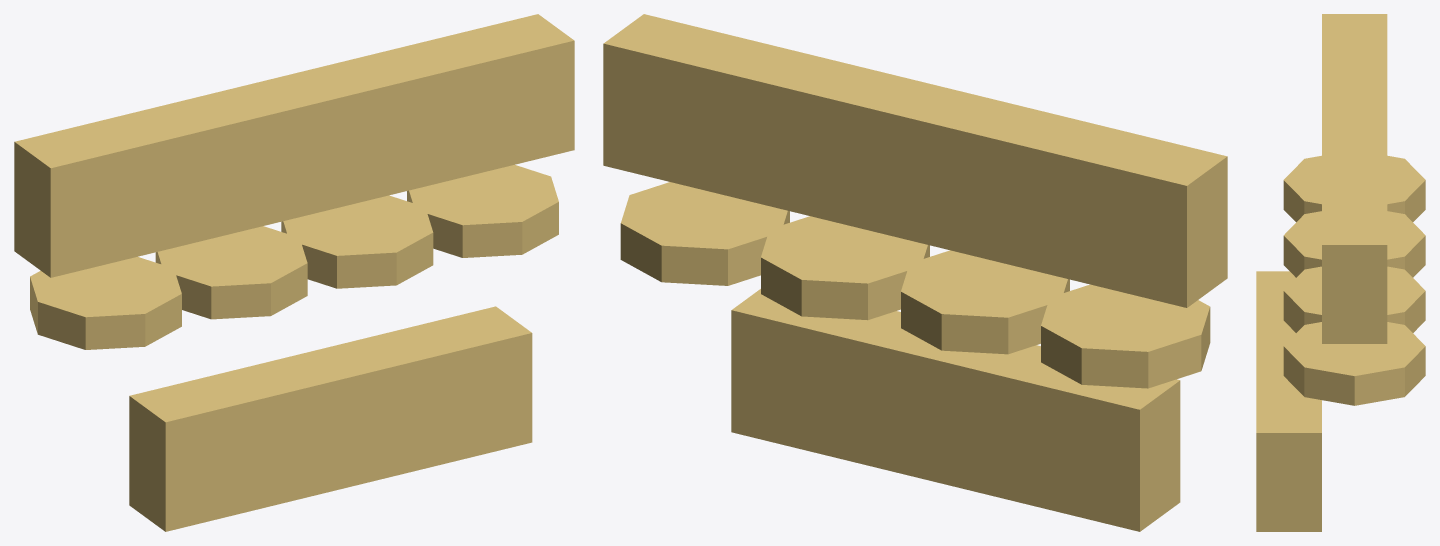
The model's file is brass_knuckles.glb.
The picture shows the model from 3 angles, left to right: view 1: azimuth 30°, elevation 25°; view 2: azimuth 150°, elevation 25°; view 3: azimuth 270°, elevation 25°; orthographic projection. The views are drawn at different scales.
Visible parts, largest first — view 1: brass_knuckles; view 2: brass_knuckles; view 3: brass_knuckles.
Part boxes in pixels (bbox=[...]): brass_knuckles: bbox=[14, 14, 574, 531]; brass_knuckles: bbox=[603, 14, 1227, 531]; brass_knuckles: bbox=[1256, 14, 1425, 531].
Size of the model in its own units: 0.1 by 0.065 by 0.031.
